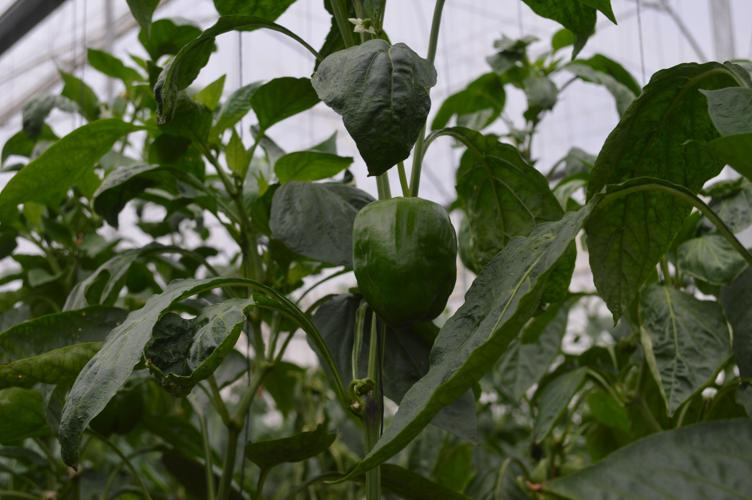BellPepper: (344, 195, 460, 330)
